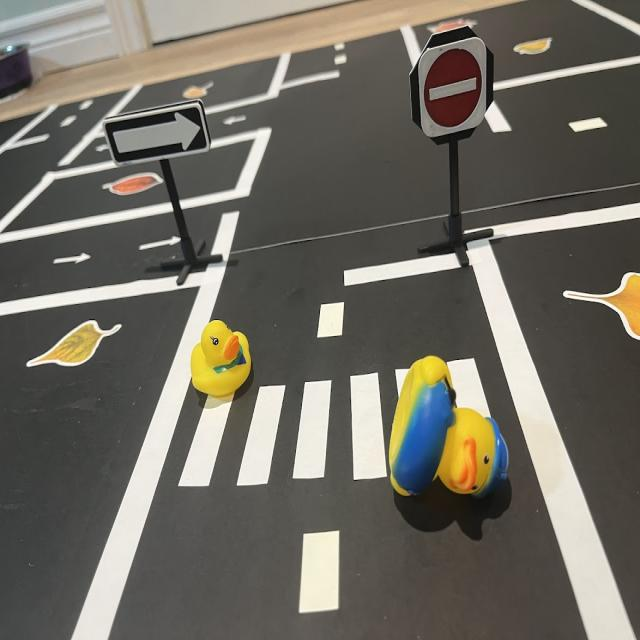duck_regular: (188, 316, 256, 399)
duck_specialty: (387, 351, 514, 506)
road_crosswalk: (175, 344, 507, 495)
road_oneway: (135, 234, 186, 254), (50, 253, 93, 267), (220, 115, 250, 127), (93, 141, 114, 156)
sign_noentry: (421, 34, 488, 138)
sign_oneway_right: (105, 101, 214, 168)
